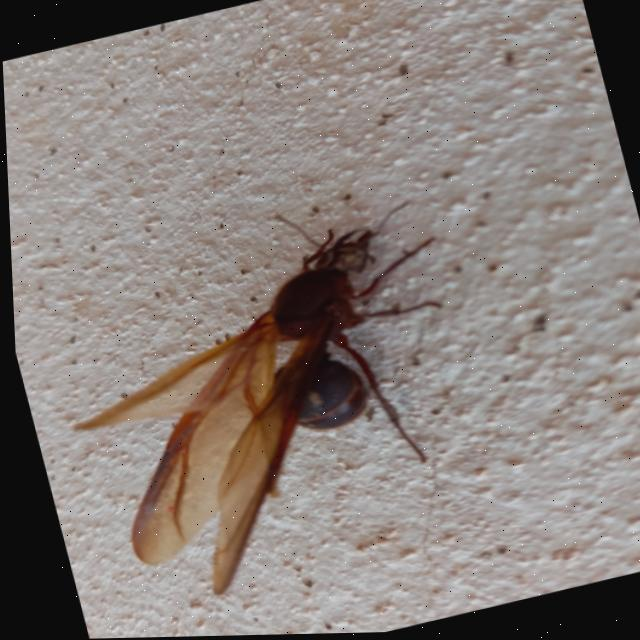Alive-Female-Alate: (25, 180, 509, 620)
